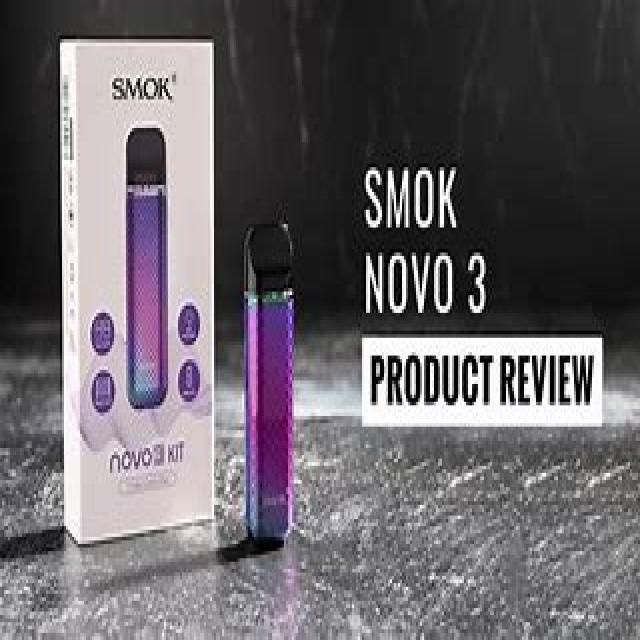Hazard: (240, 217, 296, 547), (123, 122, 172, 412)
